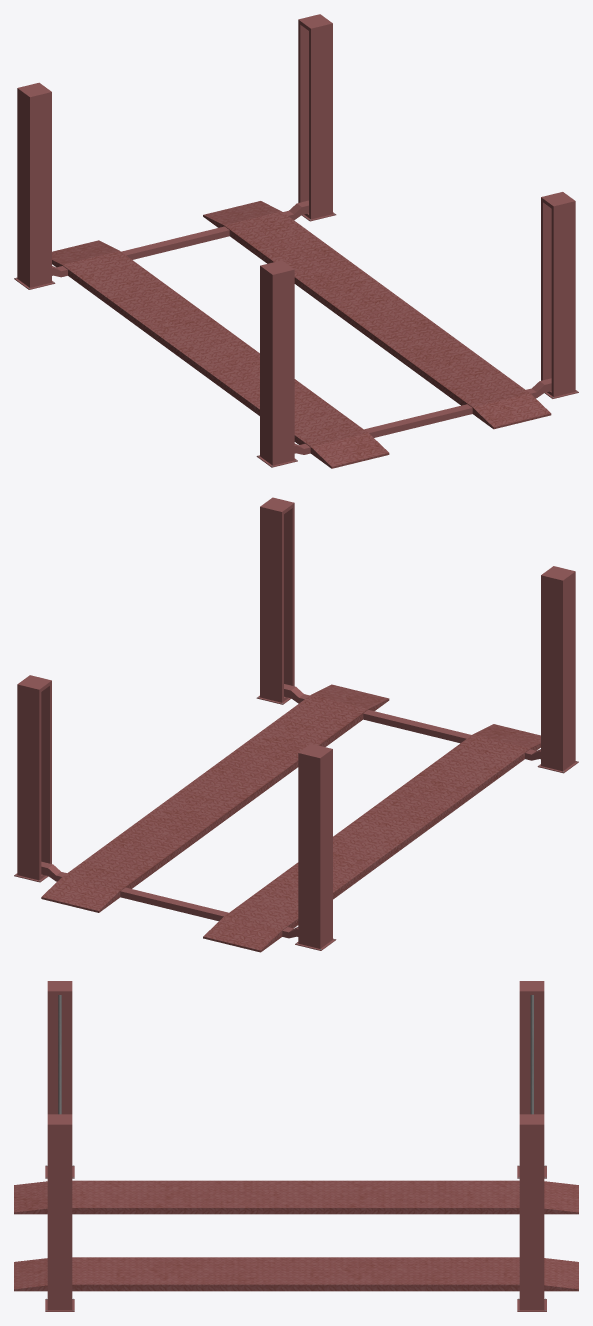
File: lift13.fbx
3 views of the same model, one above another, from view 1: azimuth 30°, elevation 25°; view 2: azimuth 150°, elevation 25°; view 3: azimuth 270°, elevation 25° (orthographic). The views are drawn at different scales.
Parts seen in each view (by area): view 1: Cube, Cube.002, Cube.001; view 2: Cube, Cube.002, Cube.001; view 3: Cube, Cube.002, Cylinder.
Part boxes in pixels (x1=…): Cube: x1=52, y1=201, x2=551, y2=468; Cube.002: x1=17, y1=14, x2=575, y2=465; Cube.001: x1=52, y1=200, x2=551, y2=454; Cube: x1=41, y1=684, x2=540, y2=952; Cube.002: x1=17, y1=497, x2=575, y2=948; Cube.001: x1=41, y1=684, x2=540, y2=938; Cube: x1=14, y1=1180, x2=578, y2=1291; Cube.002: x1=47, y1=981, x2=544, y2=1310; Cylinder: x1=58, y1=995, x2=533, y2=1114.
Bounding box in the file's own units: 291 × 173 × 476.
Materials: 3 (3 with a texture image).
